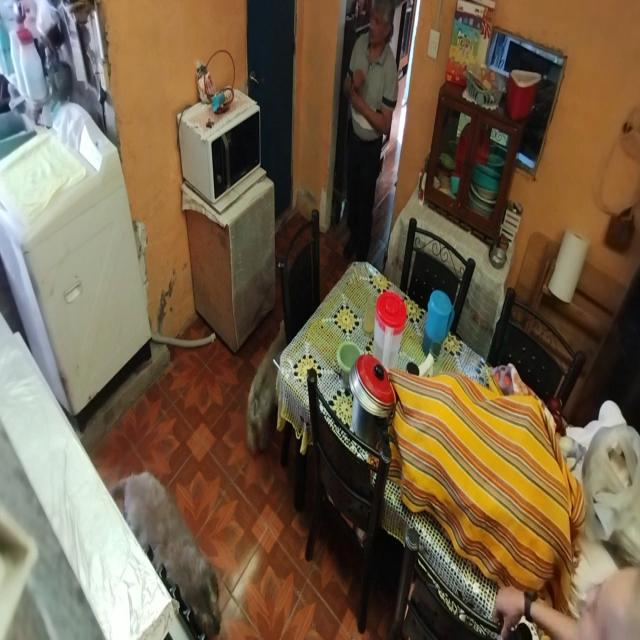adult: (341, 0, 400, 265)
